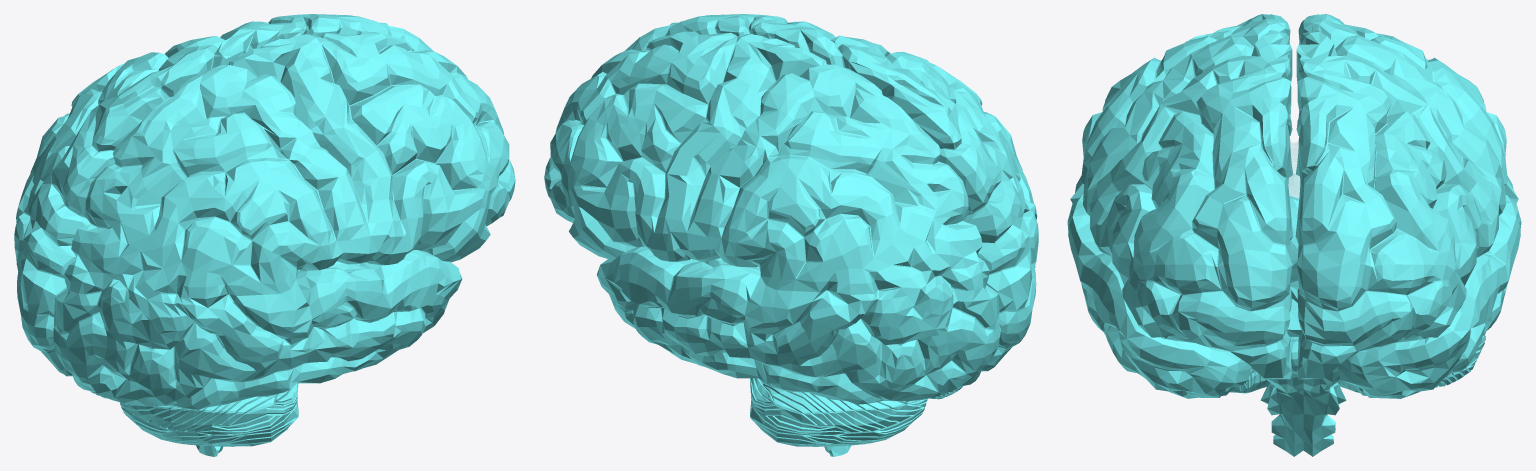
Rendered from human-brain.glb.
The picture shows the model from 3 angles, left to right: view 1: azimuth 30°, elevation 25°; view 2: azimuth 150°, elevation 25°; view 3: azimuth 270°, elevation 25°; orthographic projection. The views are drawn at different scales.
Visible parts, largest first — view 1: pariet1, frontal1, occipit1, temp1, cereb1; view 2: pariet1, frontal1, occipit1, temp1, cereb1; view 3: frontal1, temp1, pariet1, brain1, cereb1.
Part boxes in pixels (bbox=[...]): pariet1: bbox=[22, 36, 370, 307]; frontal1: bbox=[212, 14, 515, 265]; occipit1: bbox=[14, 183, 256, 409]; temp1: bbox=[205, 250, 462, 407]; cereb1: bbox=[90, 383, 298, 446]; pariet1: bbox=[687, 35, 1030, 303]; frontal1: bbox=[544, 14, 843, 261]; occipit1: bbox=[799, 181, 1038, 404]; temp1: bbox=[597, 246, 846, 401]; cereb1: bbox=[750, 378, 963, 446]; frontal1: bbox=[1083, 30, 1505, 379]; temp1: bbox=[1067, 176, 1521, 398]; pariet1: bbox=[1081, 14, 1507, 203]; brain1: bbox=[1251, 142, 1346, 456]; cereb1: bbox=[1230, 332, 1485, 393].
Size of the model in its own units: 249 by 217 by 204.
